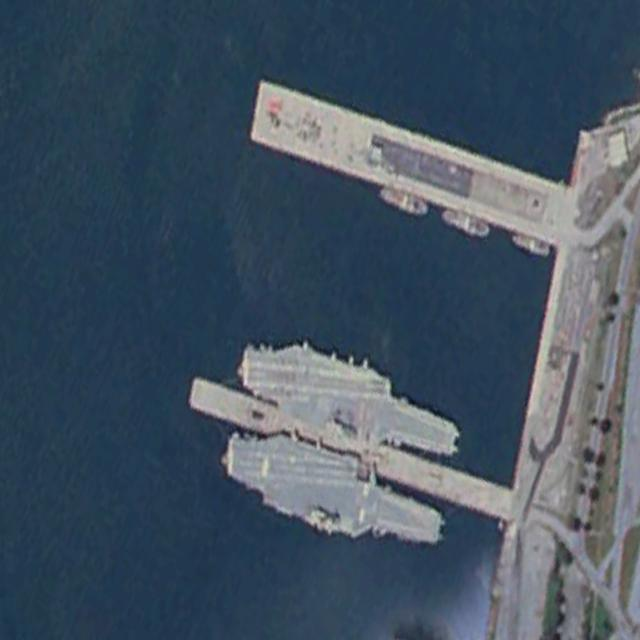Aircraft Carrier: (216, 410, 452, 573), (232, 314, 468, 476)
Other Ship: (439, 205, 495, 246), (374, 180, 430, 221), (510, 230, 552, 262)
